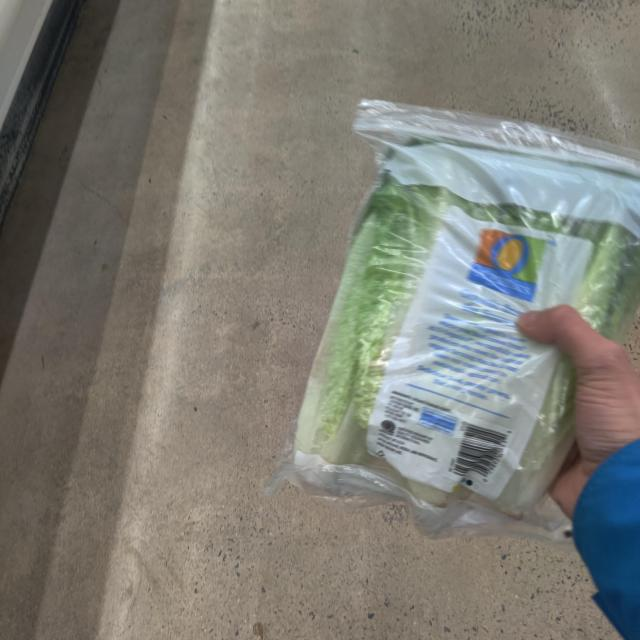Lettuce: (280, 98, 640, 523)
